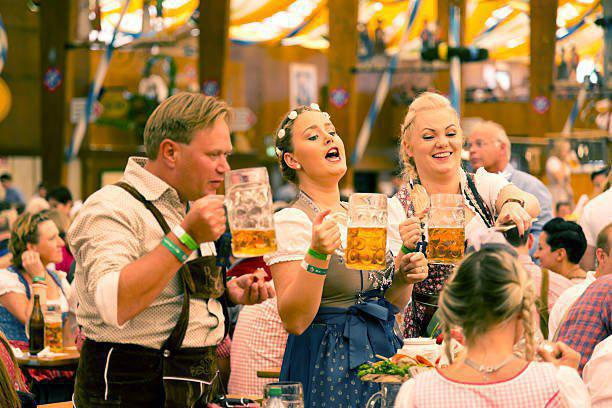Drunk: (189, 112, 232, 201), (294, 111, 346, 181), (414, 108, 464, 172)
